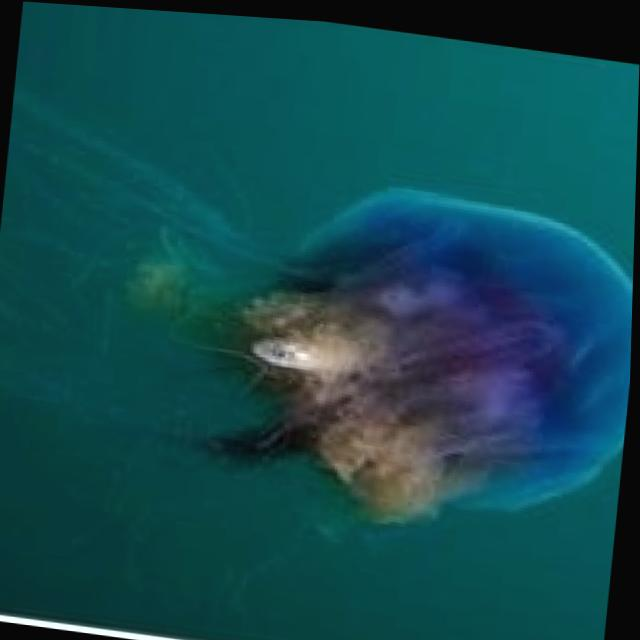Human: (0, 82, 638, 553)
